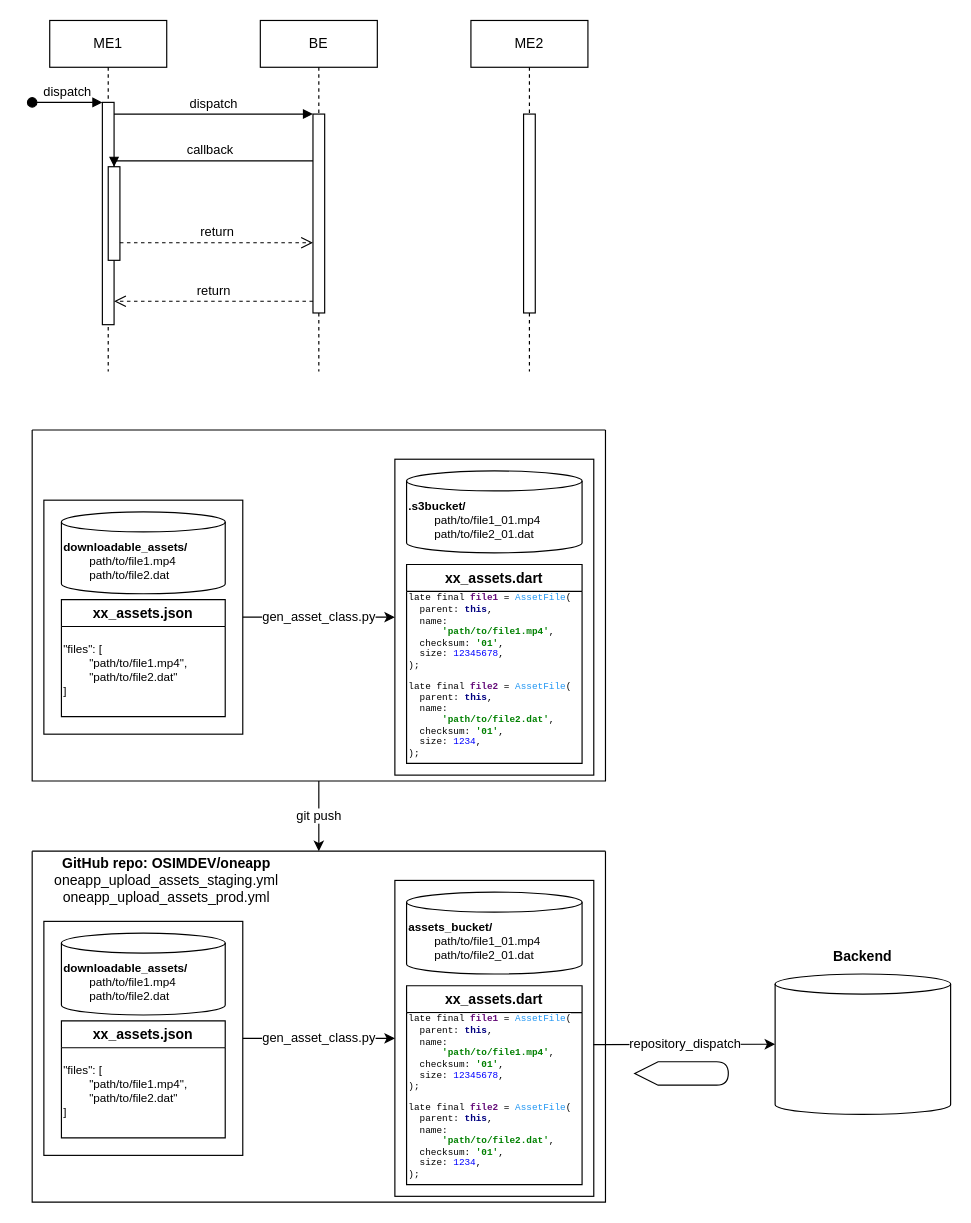
This 971x1223 diagram has some shape labels left out. The shapes that lost their labels are listed below. From the top down, each one's centre as x and y in pixels, then its label:
At point 318,605: "Local repo".
At point 862,1043: "assets_bucket/ path/to/file1_00.mp4 path/to/file1_01.mp4 path/to/file2_01.dat".
At point 681,1073: "secrets.REPO_TOKEN".
